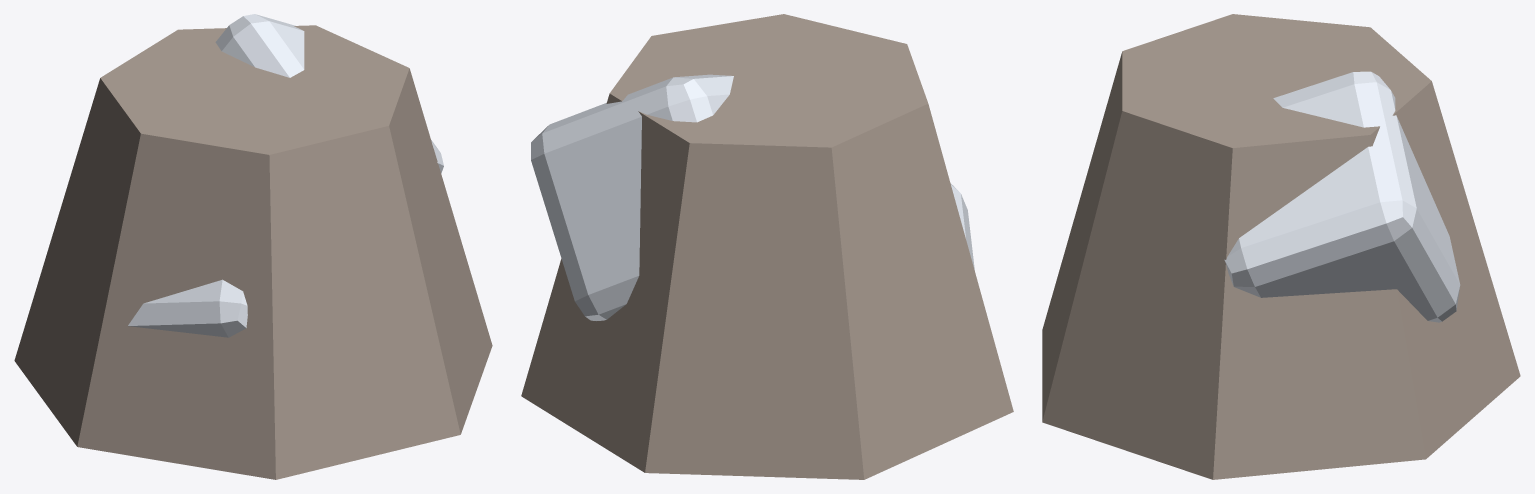
Rendered from RawTitanium.fbx.
3 views of the same model, side by side, from view 1: azimuth 30°, elevation 25°; view 2: azimuth 150°, elevation 25°; view 3: azimuth 270°, elevation 25° (orthographic). The views are drawn at different scales.
Visible parts, largest first — view 1: MainMesh; view 2: MainMesh; view 3: MainMesh.
Part boxes in pixels (bbox=[...]): MainMesh: bbox=[14, 14, 492, 479]; MainMesh: bbox=[521, 14, 1013, 479]; MainMesh: bbox=[1042, 14, 1520, 479].
Bounding box in the file's own units: 1.66 × 1.2 × 1.62.
